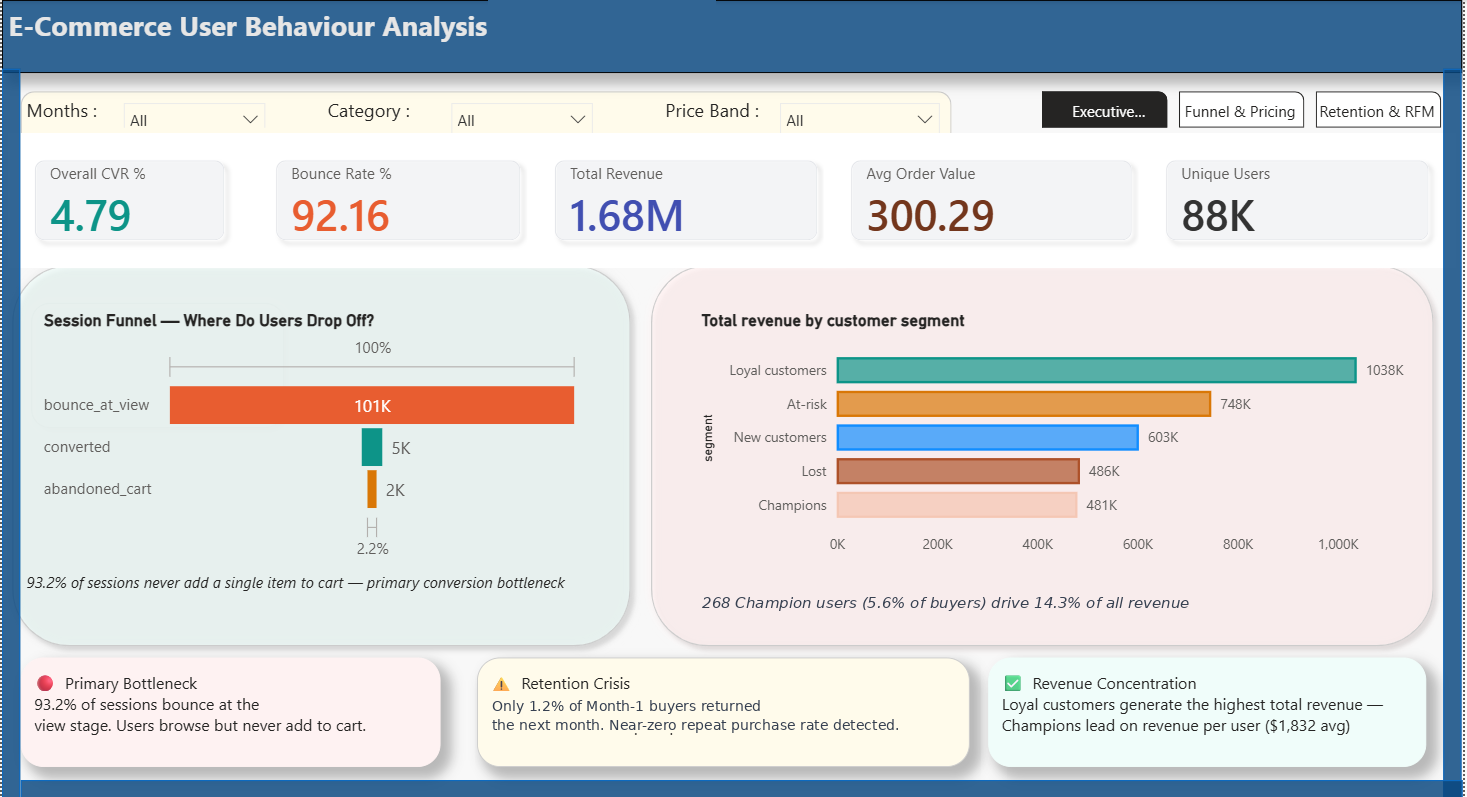

This screenshot's page, from the dashboard's own definition file:
{"tool":"powerbi","page":{"name":"Executive summary","canvas":[1280,700],"ordinal":0},"visuals":[{"type":"shape","box":[16,80,816,48],"z":0},{"type":"textbox","box":[16,576,368,96],"z":0,"group":"g1"},{"type":"shape","box":[16,256,240,128],"z":1000},{"type":"textbox","box":[416,576,432,96],"z":1000,"group":"g1"},{"type":"shape","box":[560,224,704,352],"z":2000},{"type":"textbox","box":[864,576,384,96],"z":2000,"group":"g1"},{"type":"shape","box":[0,224,560,352],"z":3000},{"type":"textbox","box":[0,0,1280,64],"z":4000},{"type":"slicer","title":"Months","fields":{"Values":["events.month_label"]},"box":[96,80,144,32],"z":5000},{"type":"slicer","fields":{"Values":["events.category_code"]},"box":[384,80,144,48],"z":6000},{"type":"slicer","fields":{"Values":["events.price_band"]},"box":[672,80,160,48],"z":7000},{"type":"textbox","box":[16,80,80,32],"z":8000},{"type":"textbox","box":[280,80,112,32],"z":9000},{"type":"textbox","box":[576,80,112,32],"z":10000},{"type":"cardVisual","title":"Overall cvr %","fields":{"Data":["events.Overall CVR %"]},"box":[0,112,224,128],"z":11000},{"type":"cardVisual","title":"Overall cvr %","fields":{"Data":["events.Bounce Rate %"]},"box":[212,112,272,128],"z":12000},{"type":"cardVisual","title":"Overall cvr %","fields":{"Data":["events.Total Revenue"]},"box":[456,112,288,128],"z":13000},{"type":"cardVisual","title":"Overall cvr %","fields":{"Data":["events.Avg Order Value"]},"box":[716,112,304,128],"z":14000},{"type":"cardVisual","title":"Overall cvr %","fields":{"Data":["events.Unique Users"]},"box":[992,112,288,128],"z":15000},{"type":"funnel","title":"Session Funnel — Where Do Users Drop Off?","fields":{"Category":["session_funnel.session_outcome"],"Y":["Sum(session_funnel.sessions)"]},"box":[32,272,480,224],"z":16000},{"type":"textbox","box":[16,496,512,48],"z":17000},{"type":"clusteredBarChart","title":"Total revenue by customer segment","fields":{"Category":["RFMSegments.segment"],"Y":["Sum(RFMSegments.total_segment_revenue)"]},"box":[608,272,656,224],"z":18000},{"type":"textbox","box":[608,512,656,32],"z":19000},{"type":"group","id":"g1","title":"Group 1","box":[16,576,1232,96],"z":20000},{"type":"shape","box":[0,60,16,640],"z":21000},{"type":"shape","box":[1264,60,16,640],"z":22000},{"type":"shape","box":[16,684,1264,16],"z":23000},{"type":"pageNavigator","box":[912,80,352,32],"z":24000}]}

Visuals, with their boxes in screenshot pixels (x1, y1, x2, y2), scaled from the page's 1280x700 canvas onto the 1467x797 screenshot:
shape: 18/91/954/146
textbox: 18/656/440/765
shape: 18/291/293/437
textbox: 477/656/972/765
shape: 642/255/1449/656
textbox: 990/656/1430/765
shape: 0/255/642/656
textbox: 0/0/1466/73
"Months" slicer: 110/91/275/128
slicer - events.category_code: 440/91/605/146
slicer - events.price_band: 770/91/954/146
textbox: 18/91/110/128
textbox: 321/91/449/128
textbox: 660/91/789/128
"Overall cvr %" cardVisual: 0/128/257/273
"Overall cvr %" cardVisual: 243/128/555/273
"Overall cvr %" cardVisual: 523/128/853/273
"Overall cvr %" cardVisual: 821/128/1169/273
"Overall cvr %" cardVisual: 1137/128/1466/273
"Session Funnel — Where Do Users Drop Off?" funnel: 37/310/587/565
textbox: 18/565/605/619
"Total revenue by customer segment" clusteredBarChart: 697/310/1449/565
textbox: 697/583/1449/619
"Group 1" group: 18/656/1430/765
shape: 0/68/18/796
shape: 1449/68/1466/796
shape: 18/779/1466/796
pageNavigator: 1045/91/1449/128
